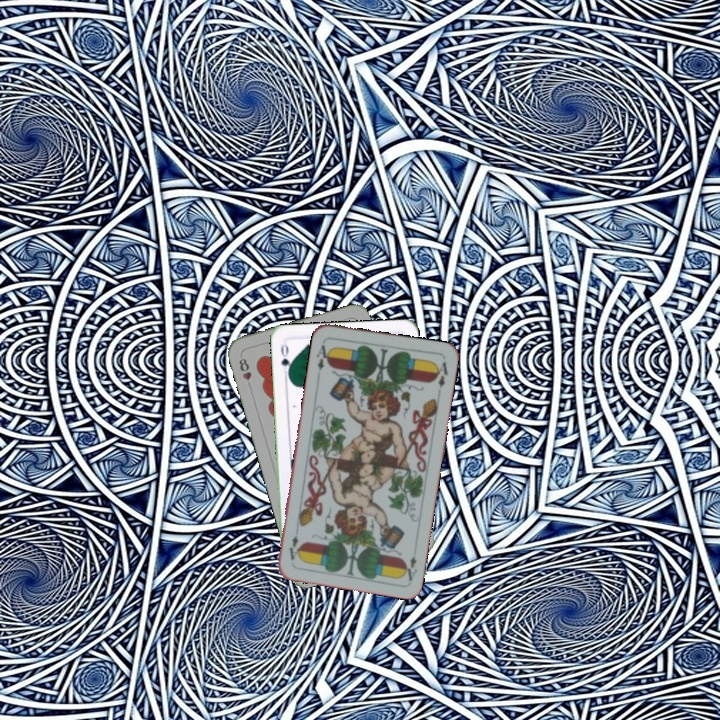EA: (312, 337, 333, 373), (399, 552, 420, 583)
GO: (277, 339, 294, 380)
H8: (235, 354, 254, 391)
